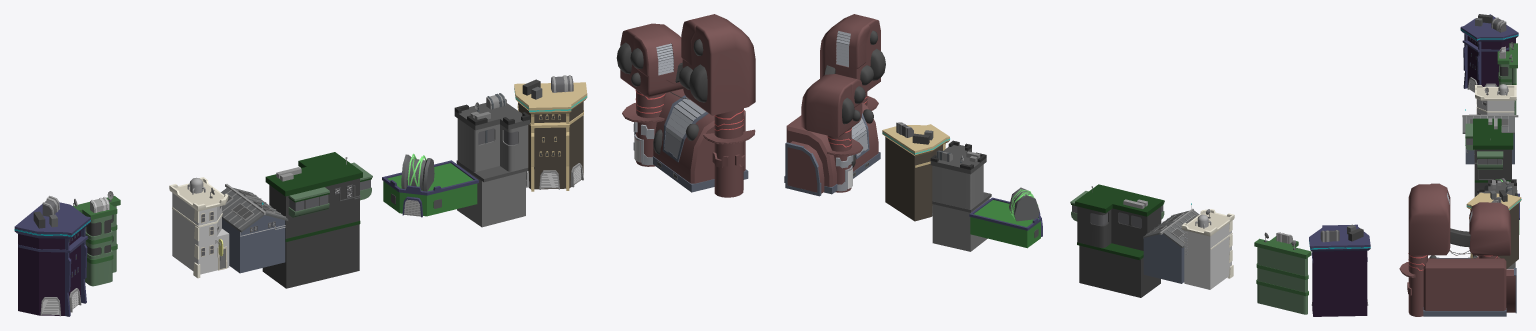
Rendered from Lower_Plaza.fbx.
3 views of the same model, side by side, from view 1: azimuth 30°, elevation 25°; view 2: azimuth 150°, elevation 25°; view 3: azimuth 270°, elevation 25° (orthographic). The views are drawn at different scales.
Visible parts, largest first — view 1: West_Hotel_02, NorthWest_House_2078, West_House_12, NorthEast_House_07, NorthEast_House_06, NorthWest_House_2077, West_House_11, NorthWest_Warehouse_06, NorthEast_House_08; view 2: West_Hotel_02, NorthWest_House_2078, NorthEast_House_07, West_House_12, NorthEast_House_06, NorthEast_House_08, NorthWest_House_2077, West_House_11, NorthWest_Warehouse_06; view 3: West_Hotel_02, NorthEast_House_07, NorthWest_House_2078, NorthWest_House_2077, NorthEast_House_06, NorthEast_House_08, NorthWest_Warehouse_06, West_House_12.
Boxes of the visible parts, box(x1,y1,x2,y2) form: West_Hotel_02: box(616, 14, 755, 197); NorthWest_House_2078: box(262, 152, 372, 288); West_House_12: box(454, 93, 530, 227); NorthEast_House_07: box(14, 195, 90, 316); NorthEast_House_06: box(514, 75, 587, 191); NorthWest_House_2077: box(169, 177, 229, 278); West_House_11: box(382, 153, 478, 217); NorthWest_Warehouse_06: box(221, 184, 288, 273); NorthEast_House_08: box(73, 191, 120, 286); West_Hotel_02: box(784, 14, 885, 196); NorthWest_House_2078: box(1070, 184, 1164, 297); NorthEast_House_07: box(1309, 224, 1370, 316); West_House_12: box(930, 140, 991, 251); NorthEast_House_06: box(882, 122, 949, 221); NorthEast_House_08: box(1254, 232, 1311, 314); NorthWest_House_2077: box(1181, 209, 1234, 289); West_House_11: box(969, 187, 1042, 248); NorthWest_Warehouse_06: box(1143, 203, 1199, 283); West_Hotel_02: box(1399, 183, 1516, 316); NorthEast_House_07: box(1460, 14, 1518, 92); NorthWest_House_2078: box(1465, 118, 1513, 196); NorthWest_House_2077: box(1475, 84, 1516, 114); NorthEast_House_06: box(1466, 190, 1521, 268); NorthEast_House_08: box(1497, 42, 1517, 114); NorthWest_Warehouse_06: box(1462, 109, 1518, 164); West_House_12: box(1477, 179, 1517, 268).
Bounding box in the file's own units: 346 × 93.45 × 74.13.
